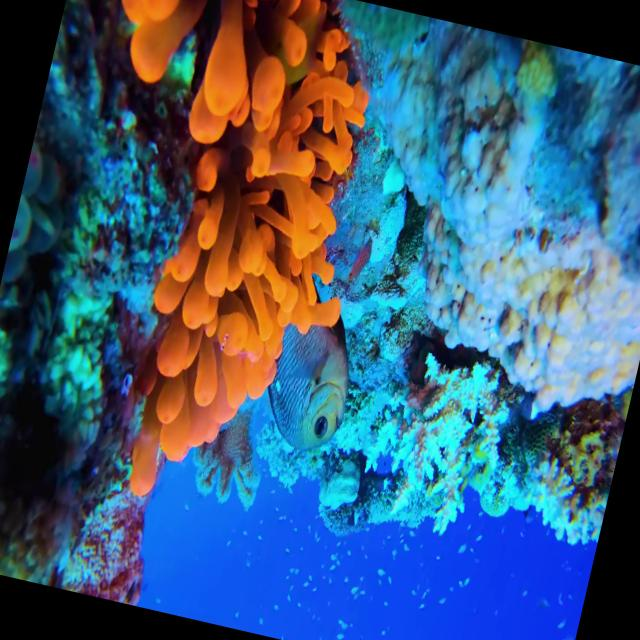fish: (256, 308, 364, 456)
